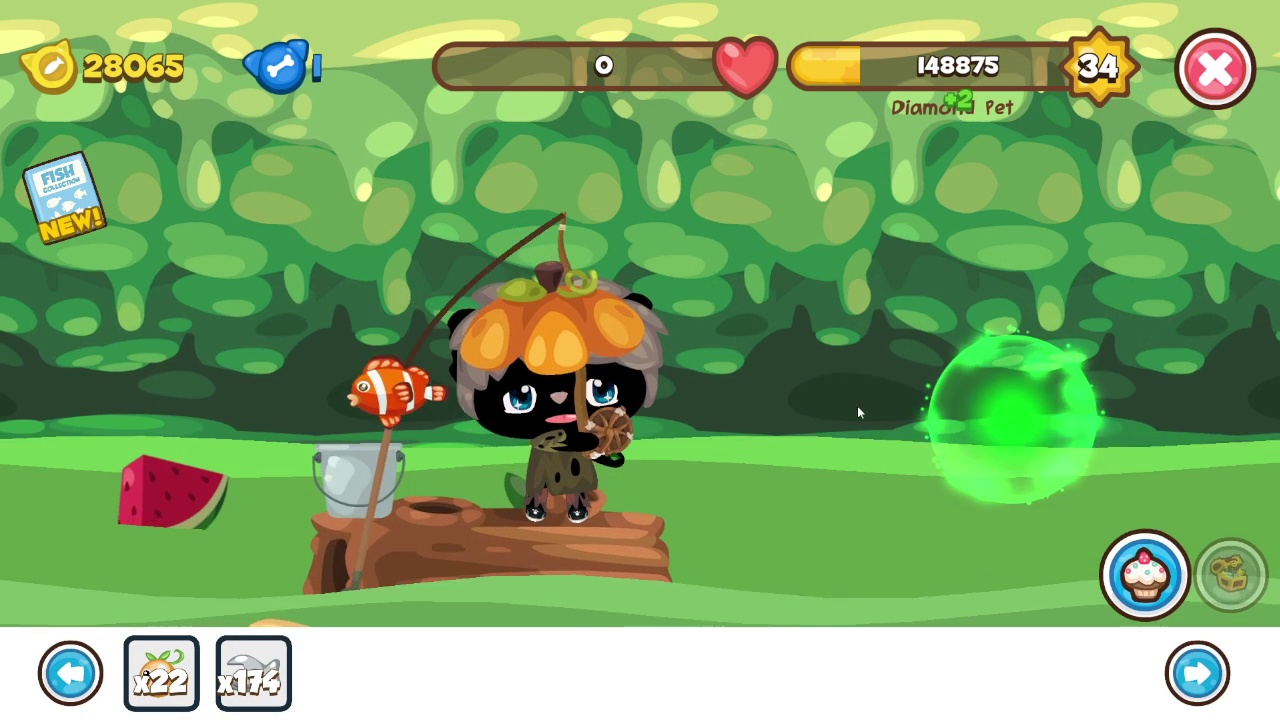point: (923, 329, 1098, 506)
